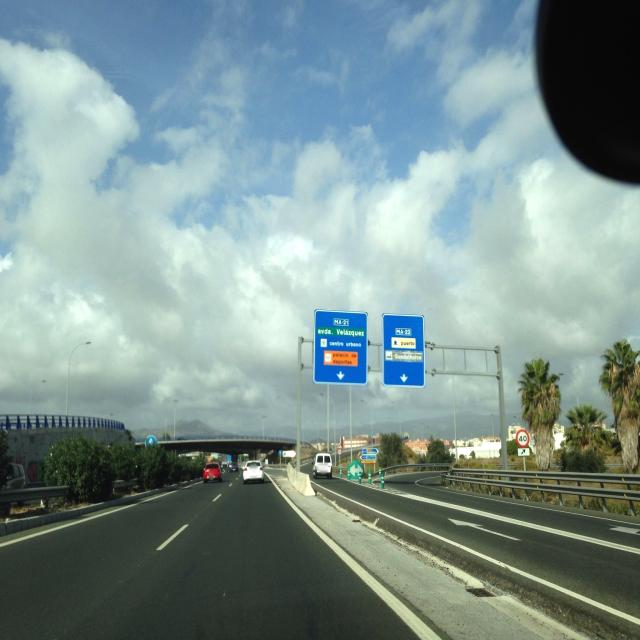car: (242, 460, 264, 484), (312, 453, 332, 479), (202, 462, 224, 483)
